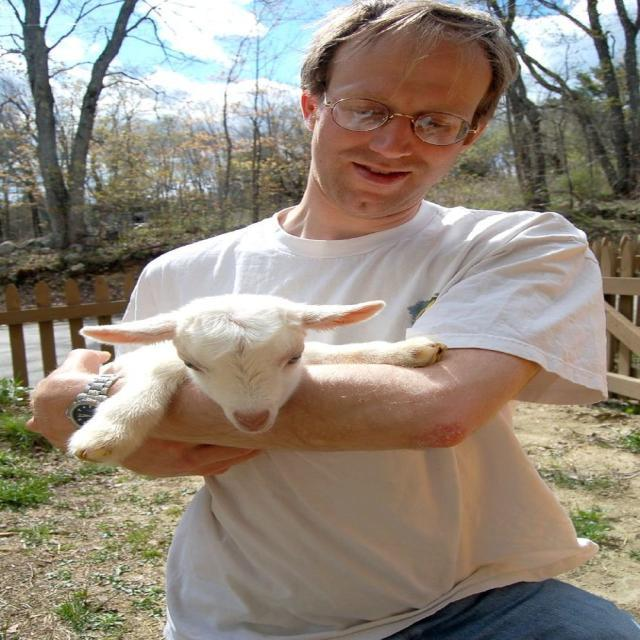Goat: (65, 292, 448, 466)
